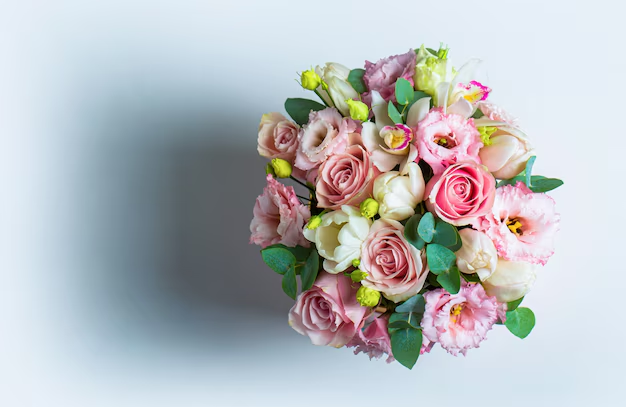Pink: (477, 181, 560, 265), (421, 280, 505, 359), (362, 218, 430, 302), (287, 272, 362, 348), (249, 175, 309, 259), (314, 133, 375, 212), (424, 162, 496, 225), (417, 107, 482, 172), (357, 47, 419, 110), (296, 105, 355, 171), (256, 108, 304, 160)
White: (302, 202, 370, 274), (480, 122, 539, 179), (372, 164, 427, 216), (443, 57, 492, 115), (485, 250, 537, 302), (451, 227, 498, 274), (322, 77, 358, 119)
